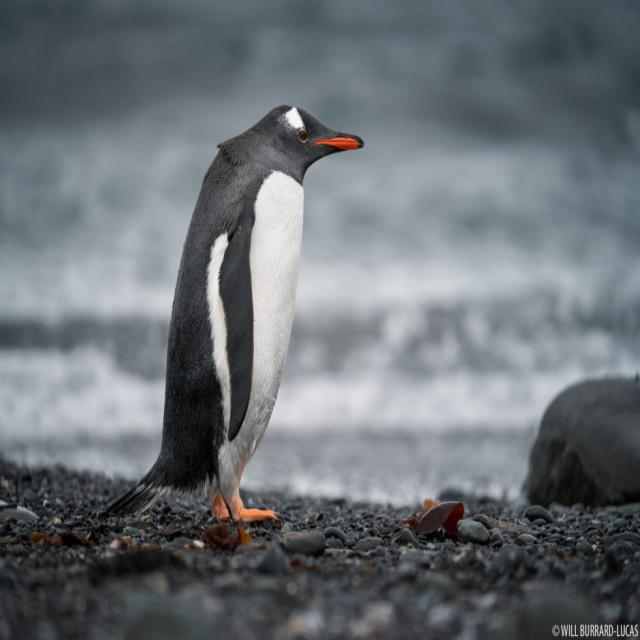Penguins: (151, 77, 351, 543)
